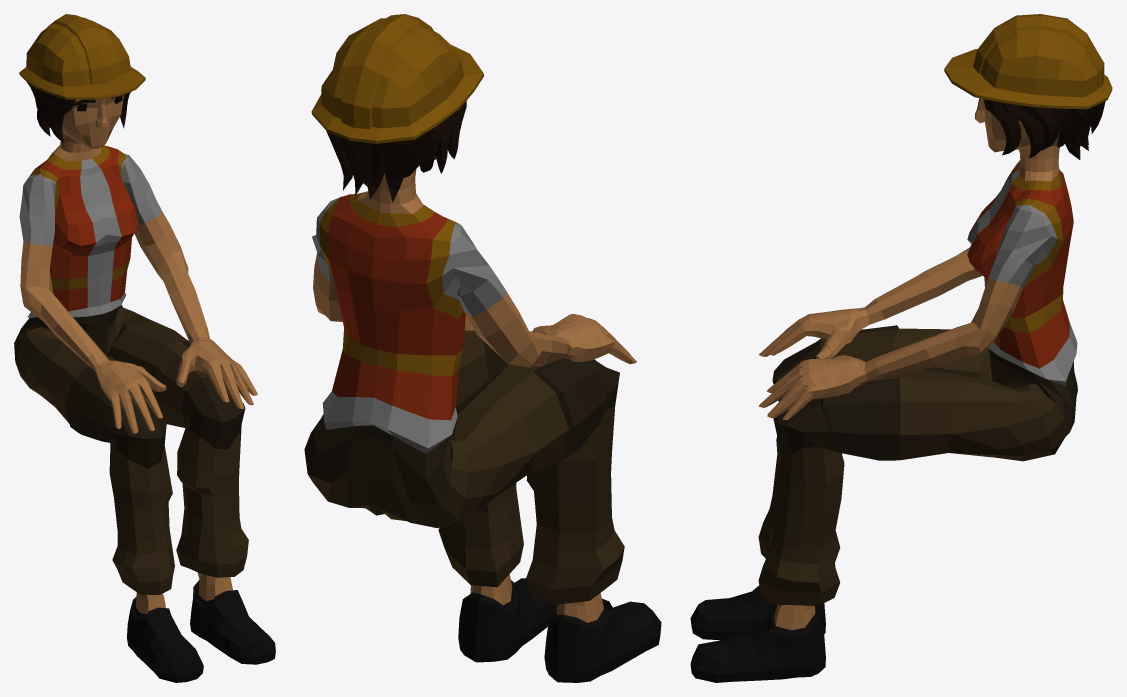
The model's file is w_worker.obj.
The picture shows the model from 3 angles, left to right: view 1: azimuth 30°, elevation 25°; view 2: azimuth 150°, elevation 25°; view 3: azimuth 270°, elevation 25°; orthographic projection. The views are drawn at different scales.
Visible parts, largest first — view 1: Worker_Legs, Worker_Body, Worker_Head, Worker_Feet; view 2: Worker_Legs, Worker_Body, Worker_Head, Worker_Feet; view 3: Worker_Legs, Worker_Body, Worker_Head, Worker_Feet.
Boxes of the visible parts, <box> form: Worker_Legs: <box>14,305,248,594</box>; Worker_Body: <box>19,145,257,433</box>; Worker_Head: <box>19,14,145,152</box>; Worker_Feet: <box>127,572,275,682</box>; Worker_Legs: <box>304,330,624,604</box>; Worker_Body: <box>312,191,636,453</box>; Worker_Head: <box>311,14,483,204</box>; Worker_Feet: <box>458,574,661,682</box>; Worker_Legs: <box>758,325,1077,605</box>; Worker_Body: <box>758,160,1077,419</box>; Worker_Head: <box>944,14,1112,172</box>; Worker_Feet: <box>690,585,825,682</box>.
Size of the model in its own units: 0.4298 by 1.37 by 0.825.
